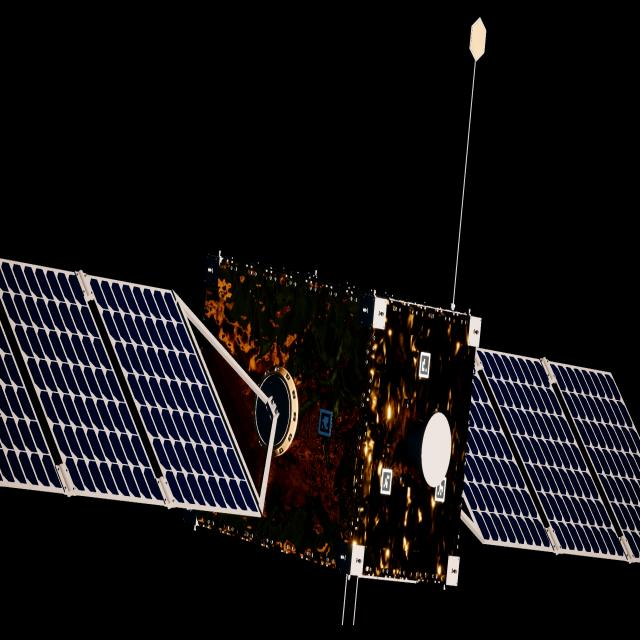satellite: (0, 251, 640, 591)
